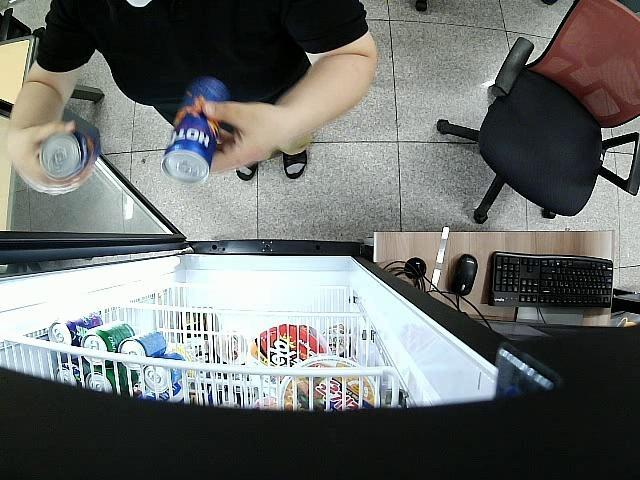16_hot6: (162, 76, 226, 185), (38, 131, 96, 181)
